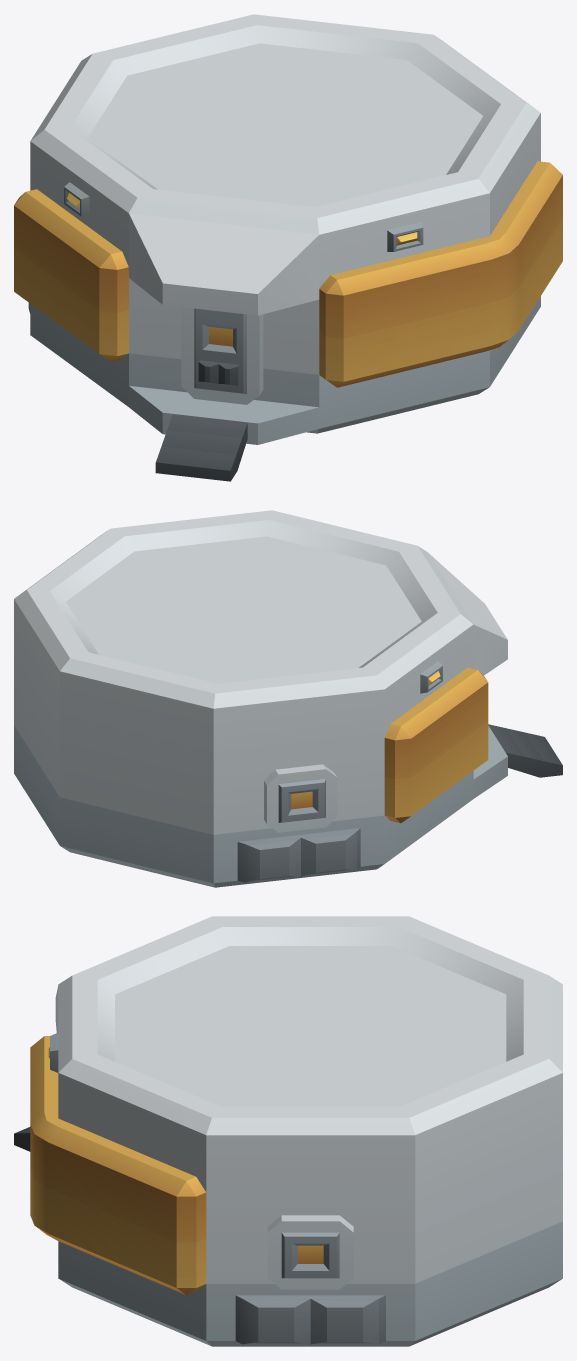
Rendered from kk_basemodule.glb.
The picture shows the model from 3 angles, top to bottom: view 1: azimuth 30°, elevation 25°; view 2: azimuth 150°, elevation 25°; view 3: azimuth 270°, elevation 25°; orthographic projection. The views are drawn at different scales.
Parts seen in each view (by area): view 1: basemodule_A; view 2: basemodule_A; view 3: basemodule_A.
Part boxes in pixels (x1,y1,x2,y2): basemodule_A: [14, 14, 562, 481]; basemodule_A: [14, 510, 562, 887]; basemodule_A: [14, 916, 562, 1346].
Size of the model in its own units: 8.99 by 4 by 8.7.
Materials: 1 (1 with a texture image).
